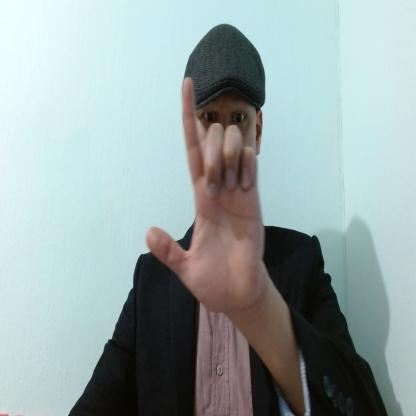L: (146, 75, 266, 312)
